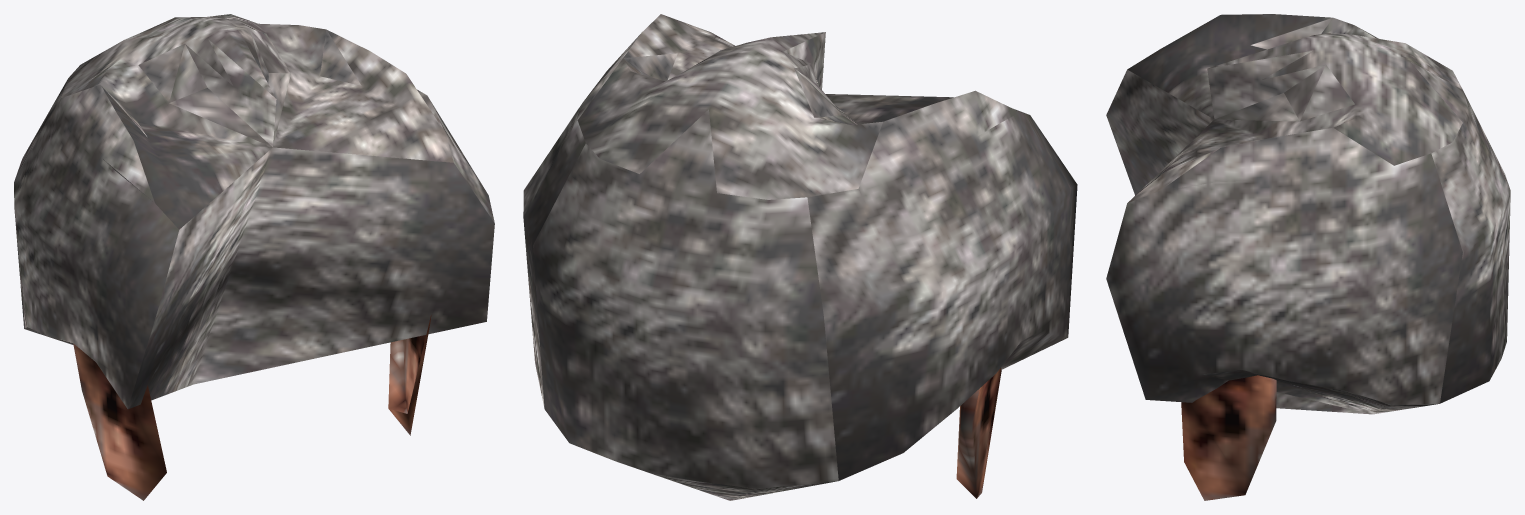
Rendered from b_n_imperial_m_hair_01.glb.
The picture shows the model from 3 angles, left to right: view 1: azimuth 30°, elevation 25°; view 2: azimuth 150°, elevation 25°; view 3: azimuth 270°, elevation 25°; orthographic projection. The views are drawn at different scales.
Parts seen in each view (by area): view 1: Tri B_N_Imperial_M_Hair_01 0, Tri B_N_Imperial_M_Hair_01 1; view 2: Tri B_N_Imperial_M_Hair_01 0, Tri B_N_Imperial_M_Hair_01 1; view 3: Tri B_N_Imperial_M_Hair_01 0, Tri B_N_Imperial_M_Hair_01 1.
Part boxes in pixels (box(x1,y1,x2,y2)): Tri B_N_Imperial_M_Hair_01 0: box(14, 14, 494, 409); Tri B_N_Imperial_M_Hair_01 1: box(73, 315, 431, 500); Tri B_N_Imperial_M_Hair_01 0: box(523, 14, 1077, 500); Tri B_N_Imperial_M_Hair_01 1: box(956, 368, 1001, 498); Tri B_N_Imperial_M_Hair_01 0: box(1106, 14, 1510, 414); Tri B_N_Imperial_M_Hair_01 1: box(1181, 375, 1276, 500).
Bounding box in the file's own units: 0.1256 × 0.1249 × 0.115.
Materials: 1 (1 with a texture image).
